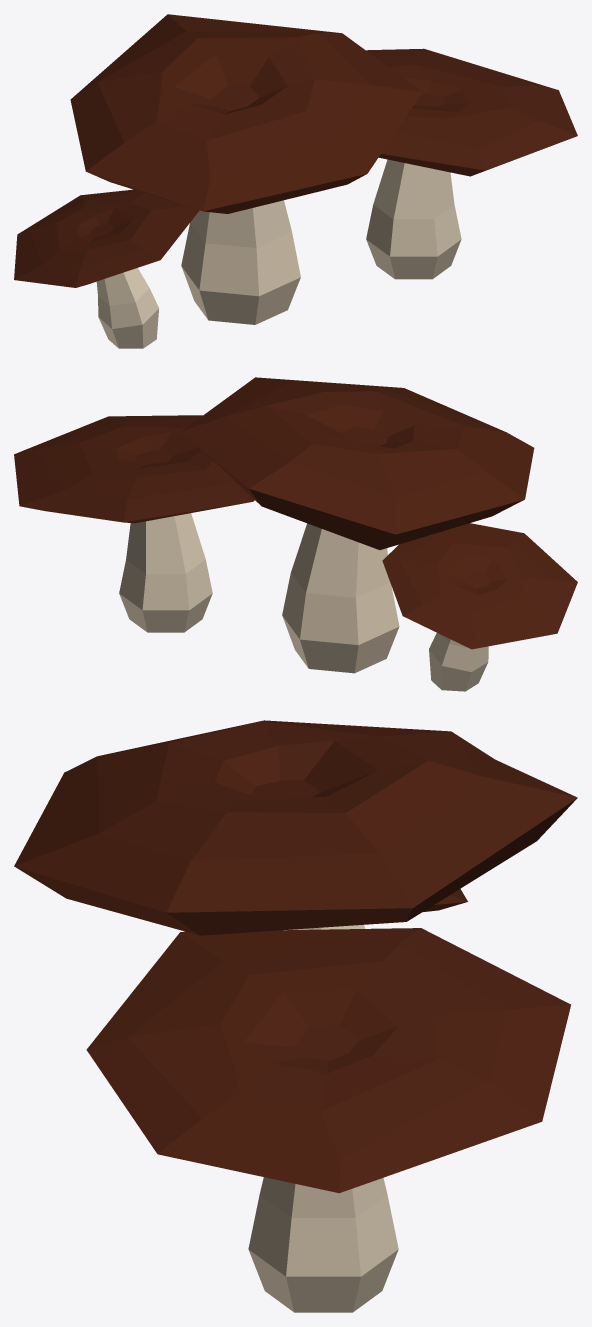
The model's file is lp_mushroom_cluster.glb.
3 views of the same model, one above another, from view 1: azimuth 30°, elevation 25°; view 2: azimuth 150°, elevation 25°; view 3: azimuth 270°, elevation 25° (orthographic). The views are drawn at different scales.
Parts seen in each view (by area): view 1: lp_mushroom_cluster; view 2: lp_mushroom_cluster; view 3: lp_mushroom_cluster.
Boxes of the visible parts, x1,y1,x2,y2 form: lp_mushroom_cluster: (14,14,577,348); lp_mushroom_cluster: (14,377,577,691); lp_mushroom_cluster: (14,720,577,1312).
Size of the model in its own units: 0.55 by 0.2391 by 0.3106.
